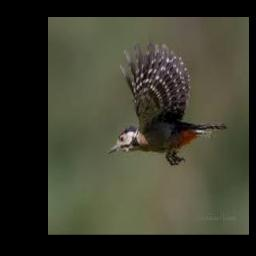Woodpecker: (104, 43, 226, 164)
